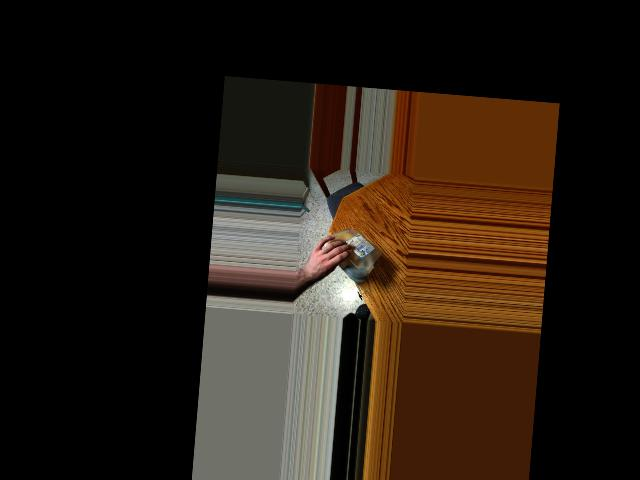cheese: (314, 223, 384, 281)
